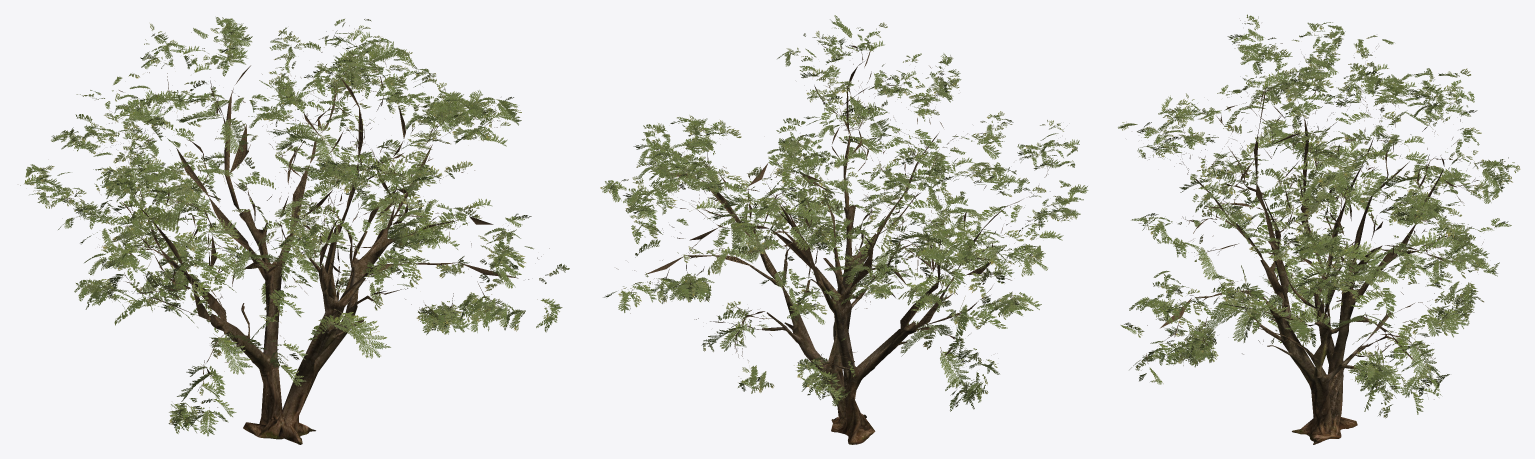
The model's file is ph-jacaranda-tree.glb.
3 views of the same model, side by side, from view 1: azimuth 30°, elevation 25°; view 2: azimuth 150°, elevation 25°; view 3: azimuth 270°, elevation 25° (orthographic). The views are drawn at different scales.
Visible parts, largest first — view 1: jacaranda_tree_LOD0; view 2: jacaranda_tree_LOD0; view 3: jacaranda_tree_LOD0.
Part boxes in pixels (bbox=[...]): jacaranda_tree_LOD0: bbox=[20, 17, 569, 444]; jacaranda_tree_LOD0: bbox=[600, 15, 1088, 444]; jacaranda_tree_LOD0: bbox=[1118, 14, 1520, 444].
Bounding box in the file's own units: 14.34 × 11.46 × 10.95.
Materials: 3 (3 with a texture image).
